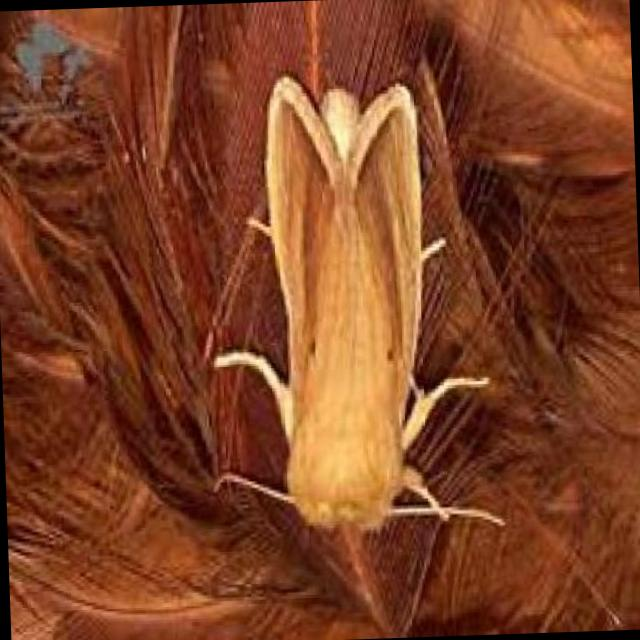stem-borer: (249, 59, 442, 544)
